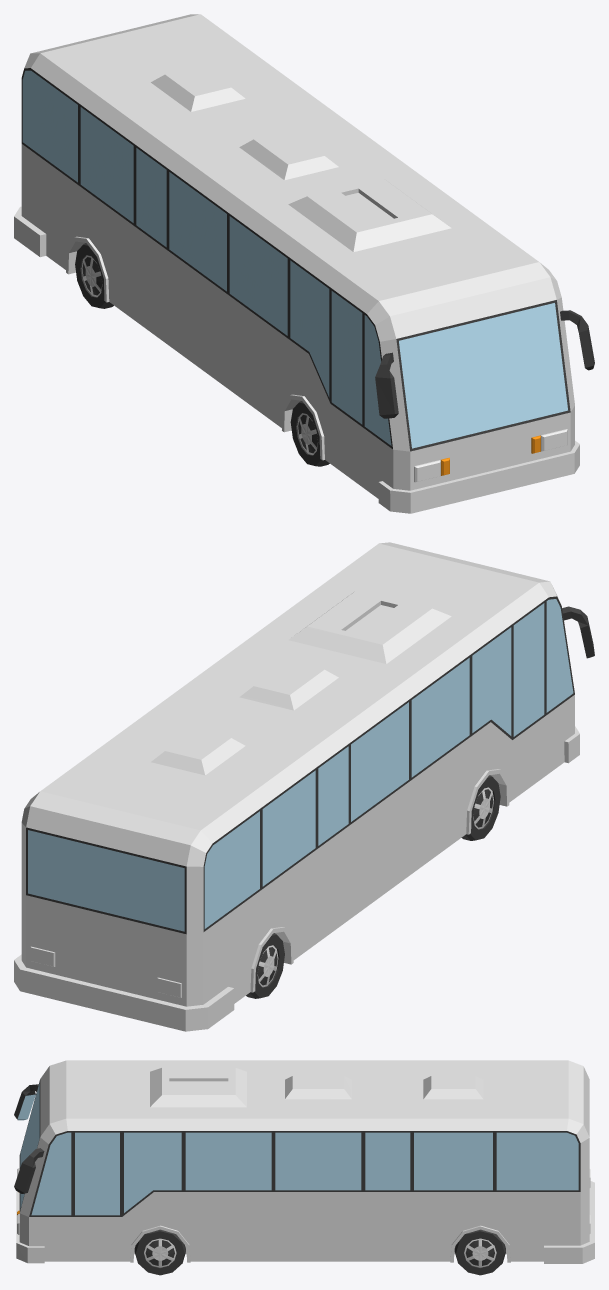
The model's file is bus.glb.
3 views of the same model, one above another, from view 1: azimuth 30°, elevation 25°; view 2: azimuth 150°, elevation 25°; view 3: azimuth 270°, elevation 25° (orthographic). The views are drawn at different scales.
Visible parts, largest first — view 1: Bus; view 2: Bus; view 3: Bus.
Boxes of the visible parts, x1,y1,x2,y2 form: Bus: (14,14,594,513); Bus: (14,542,594,1031); Bus: (14,1060,594,1275).
Size of the model in its own units: 50.06 by 48.81 by 157.
Materials: 1 (1 with a texture image).
